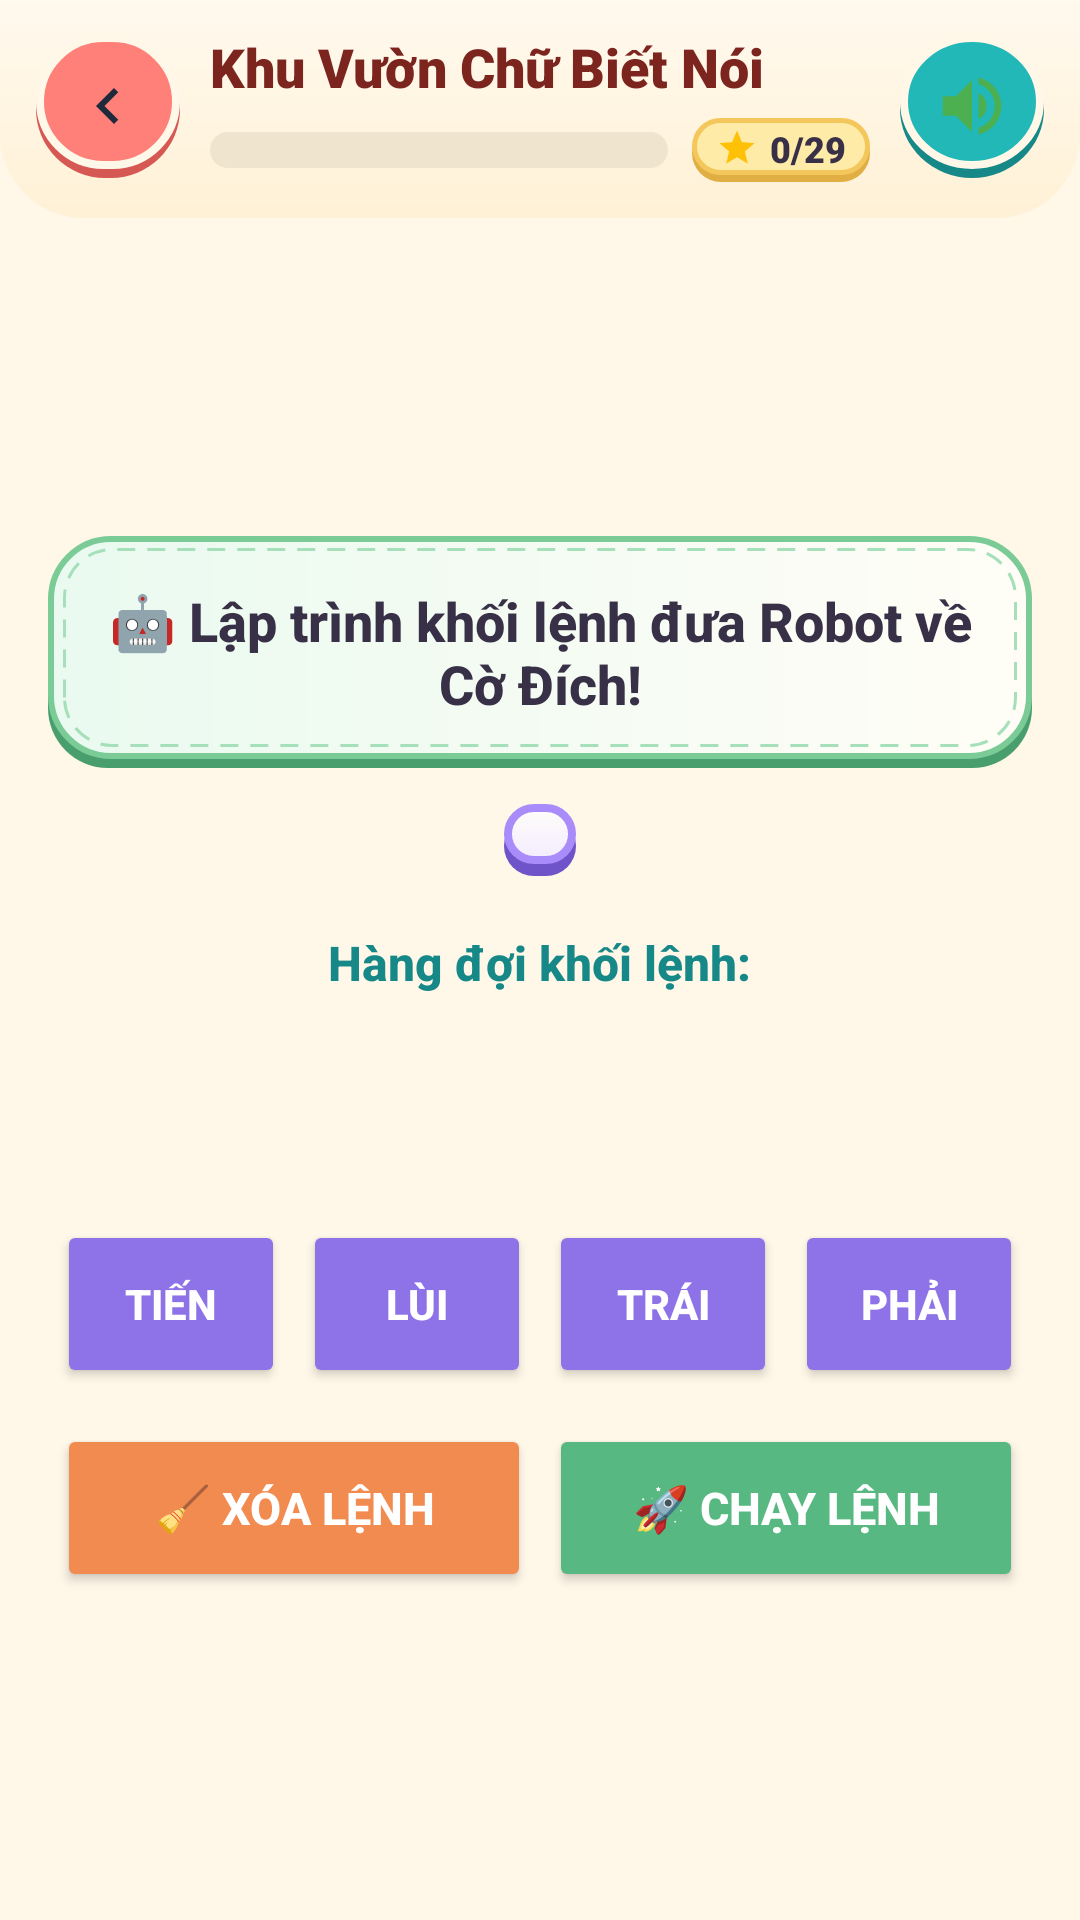

Where icons sit on this 1080×1920 app screen, as (x1, y1, x2, y2):
Bật hoặc tắt âm thanh ứng dụng: (900, 42, 1044, 178)
Quay lại: (36, 42, 180, 178)
star: (720, 131, 754, 164)
